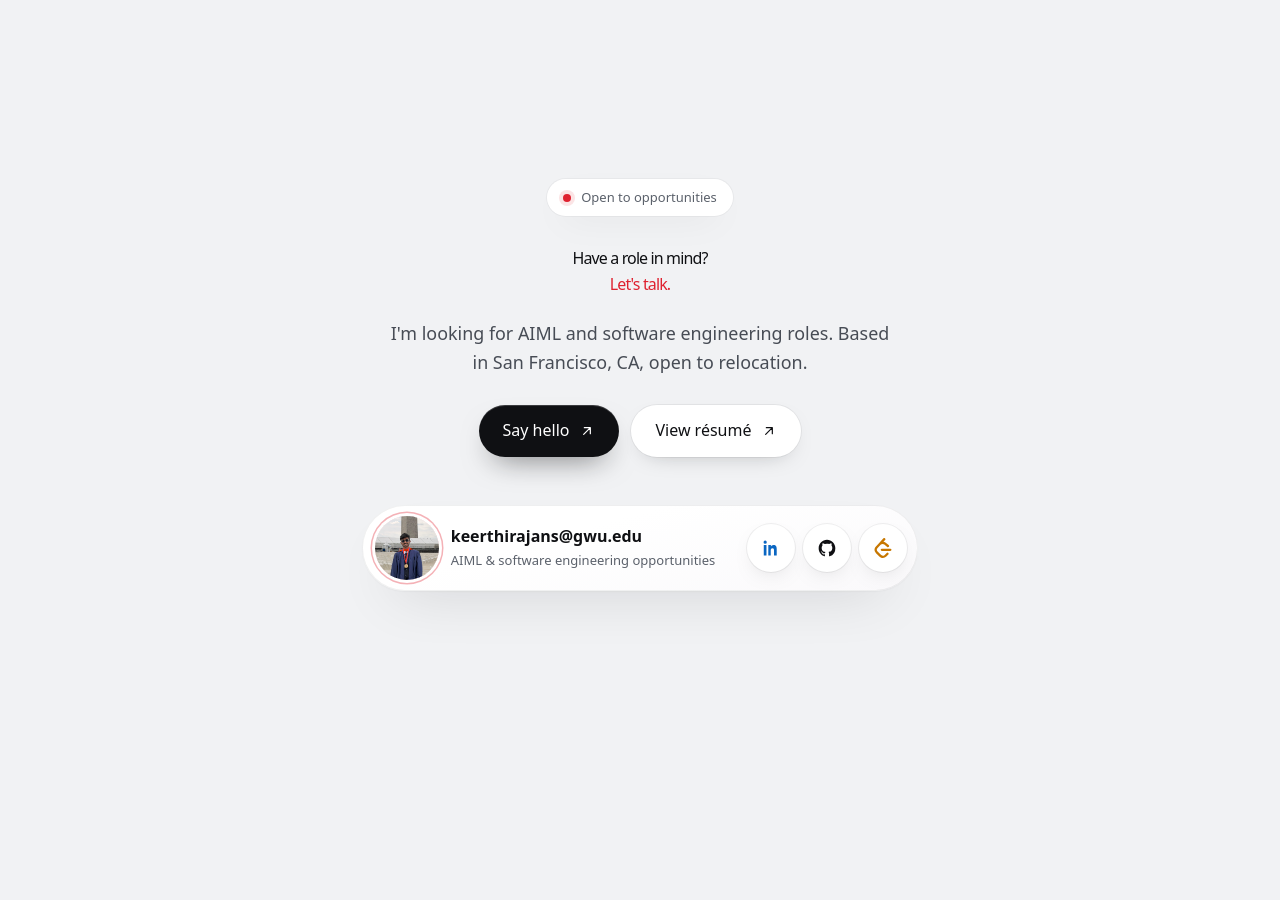
contact popup › opens the contact form from Say hello, posting to Formspree when configured
The image size is (1280, 900).
Click the button "Say hello".
click(549, 430)  # box [478,404,619,456]
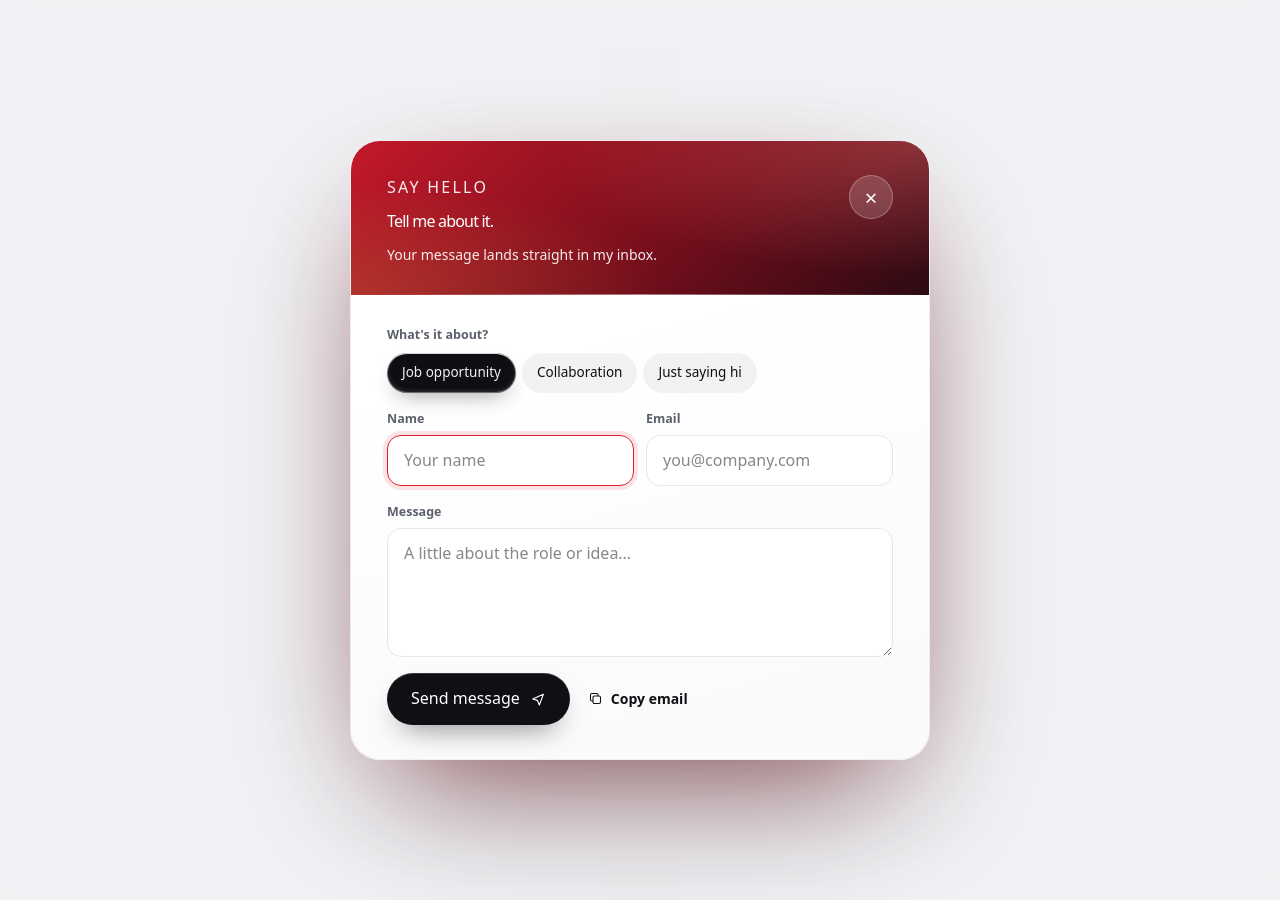
Now the button "Send message" is shown, box [387,673,570,725]
